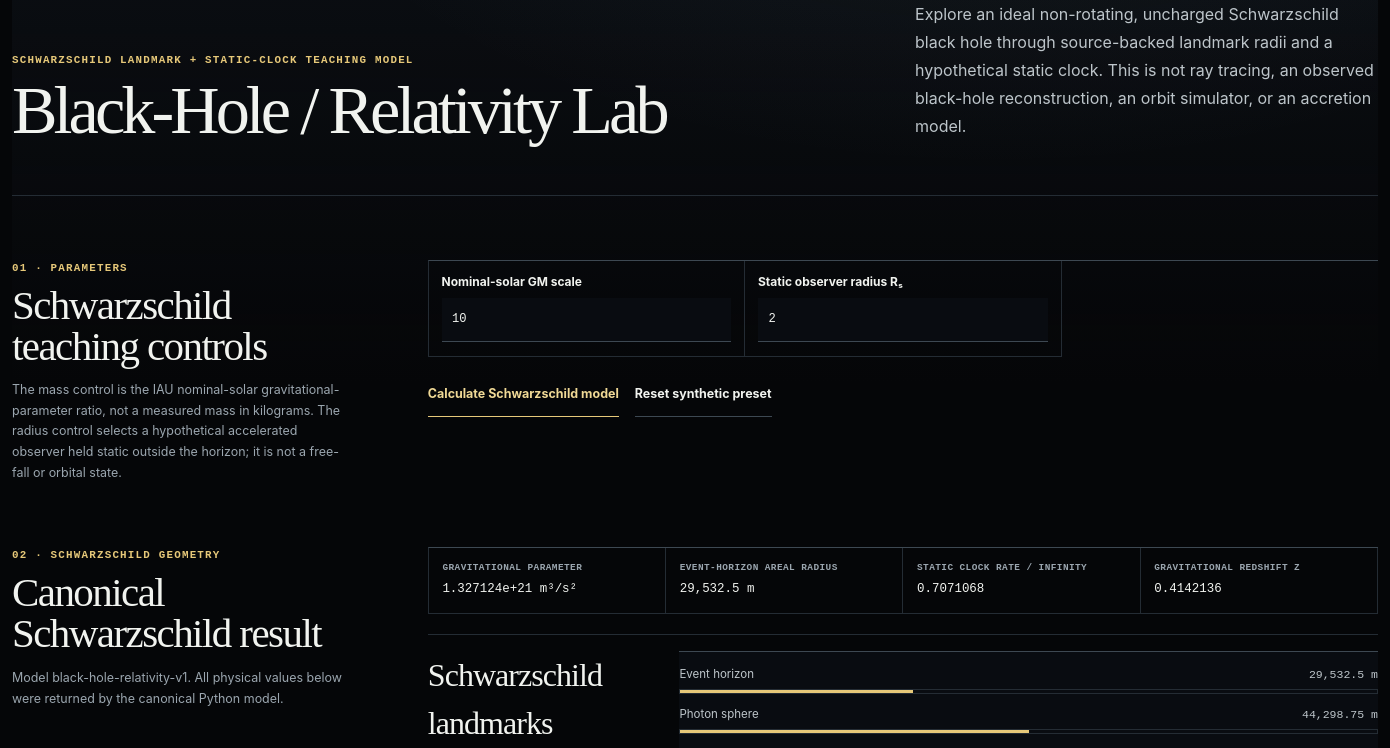
Test: BlackHoleRelativityView › rejects horizon and inside-horizon drafts locally without an API request
The image size is (1390, 748).
Replace the text in the number field named "Static observer radius in Schwarzschild radii" with "1". click: (903, 320)
box: 758,298 -> 1048,342
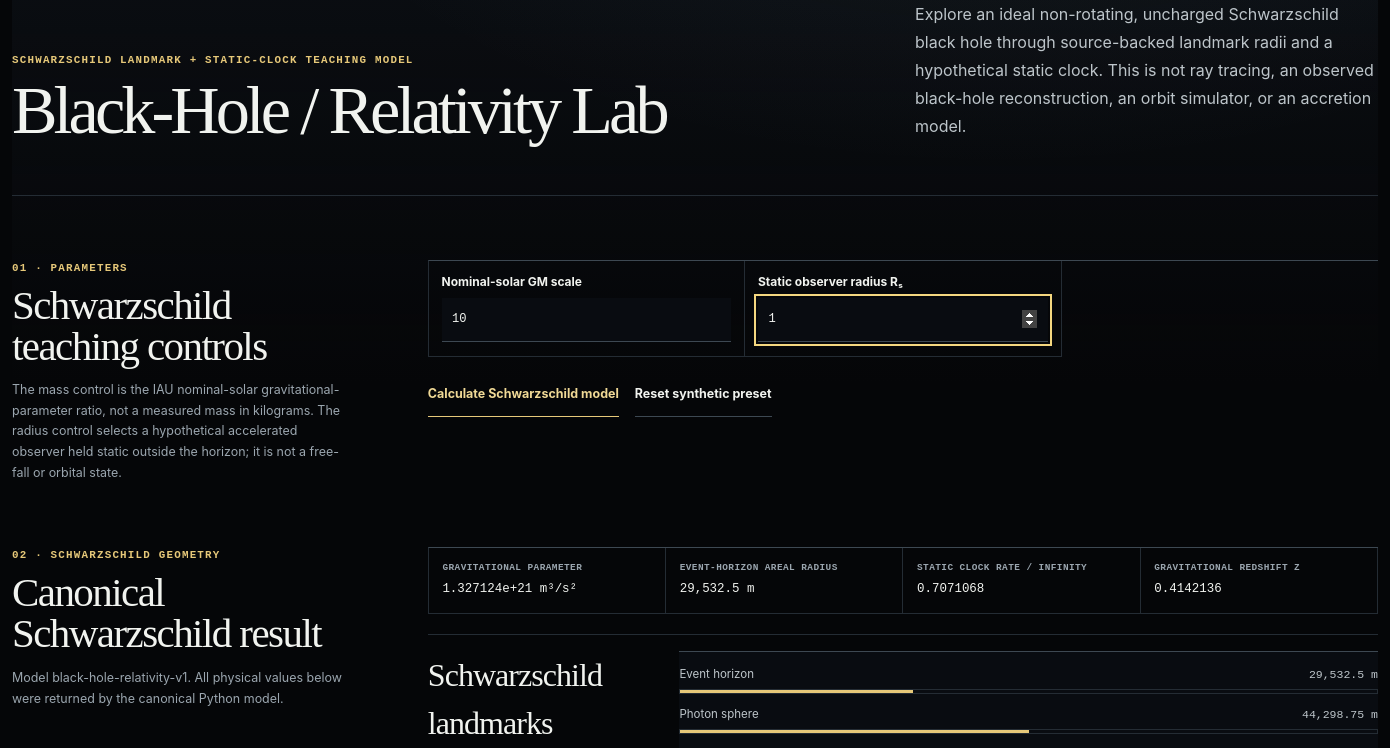
Submit the form "Calculate Schwarzschild model", box 428,260 -> 1378,417
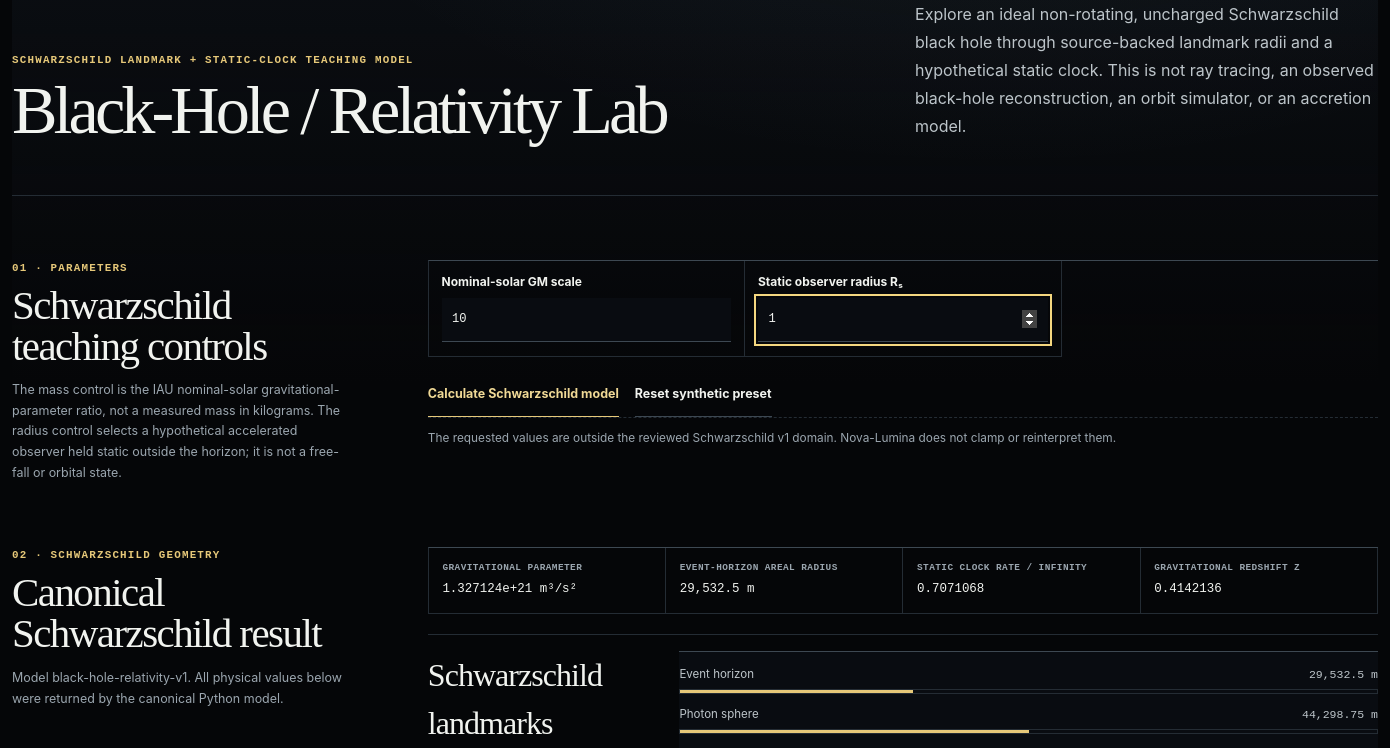
Expected: the text "outside the reviewed Schwarzschild v1 domain" is shown, 428,431 -> 1116,445
